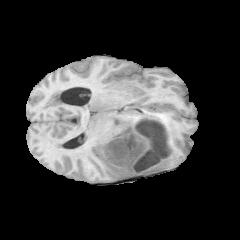glioma: (48, 92, 176, 177)
